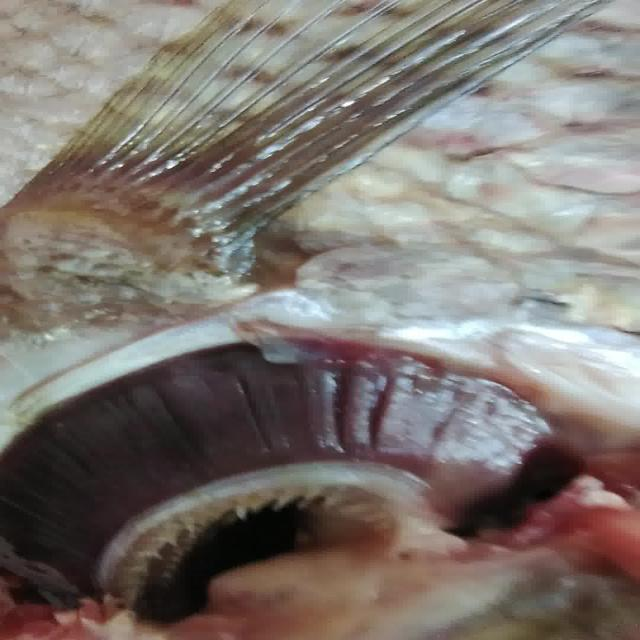Non-Fresh: (24, 332, 539, 598)
